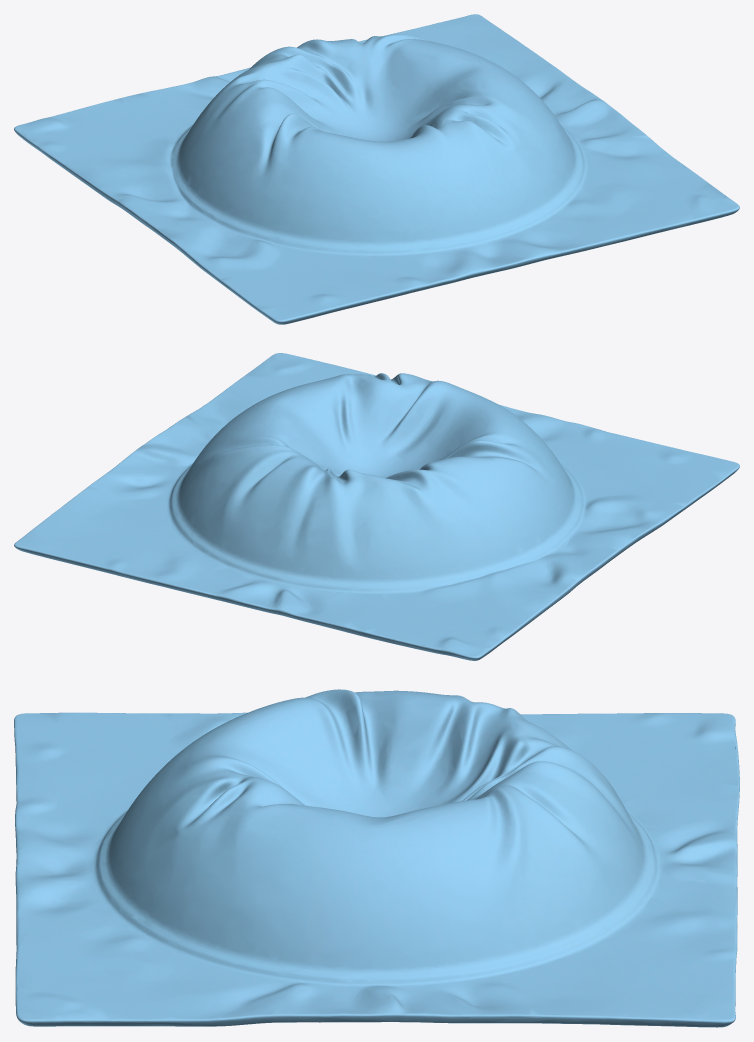
The model's file is bubble_popped.glb.
The picture shows the model from 3 angles, top to bottom: view 1: azimuth 30°, elevation 25°; view 2: azimuth 150°, elevation 25°; view 3: azimuth 270°, elevation 25°; orthographic projection. The views are drawn at different scales.
Bounding box in the file's own units: 2 × 0.3633 × 1.99.
Materials: 1 (1 with a texture image).
